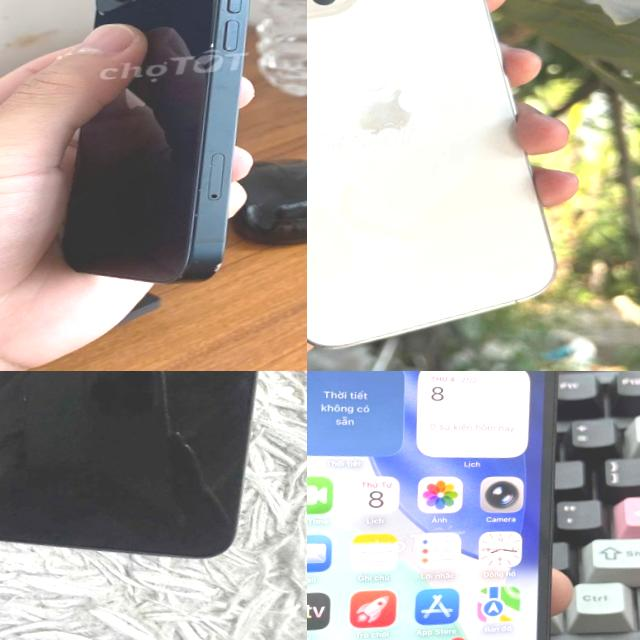gen_12_13: (24, 0, 303, 309), (307, 371, 556, 640)
gen_14: (307, 0, 569, 362)
gen_x_xs: (0, 371, 257, 557)
